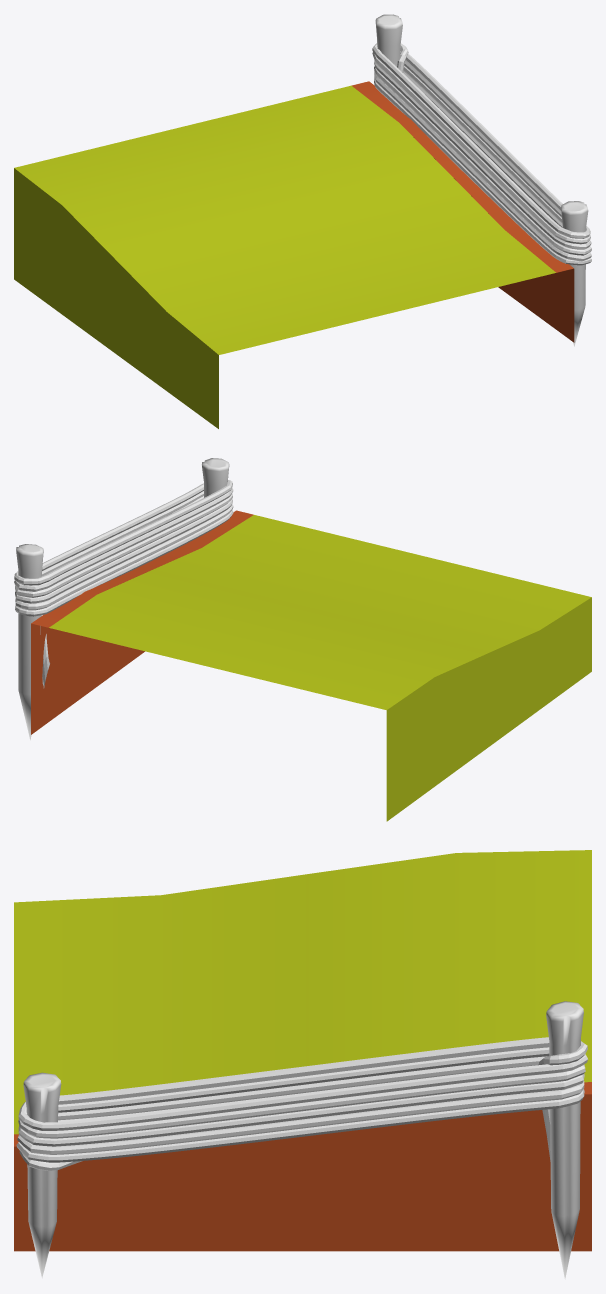
The model's file is SB_Straight_Up_Begin_End.fbx.
3 renders of one model, top to bottom at view 1: azimuth 30°, elevation 25°; view 2: azimuth 150°, elevation 25°; view 3: azimuth 270°, elevation 25°, orthographic. The views are drawn at different scales.
Visible parts, largest first — view 1: Cube.001, Cube.005; view 2: Cube.001, Cube.005; view 3: Cube.001, Cube.005.
Boxes of the visible parts, x1=… form: Cube.001: x1=14, y1=81, x2=574, y2=428; Cube.005: x1=372, y1=14, x2=591, y2=346; Cube.001: x1=31, y1=510, x2=591, y2=821; Cube.005: x1=14, y1=458, x2=233, y2=740; Cube.001: x1=14, y1=850, x2=591, y2=1251; Cube.005: x1=16, y1=1001, x2=587, y2=1279.
Bounding box in the file's own units: 215 × 104 × 200.
